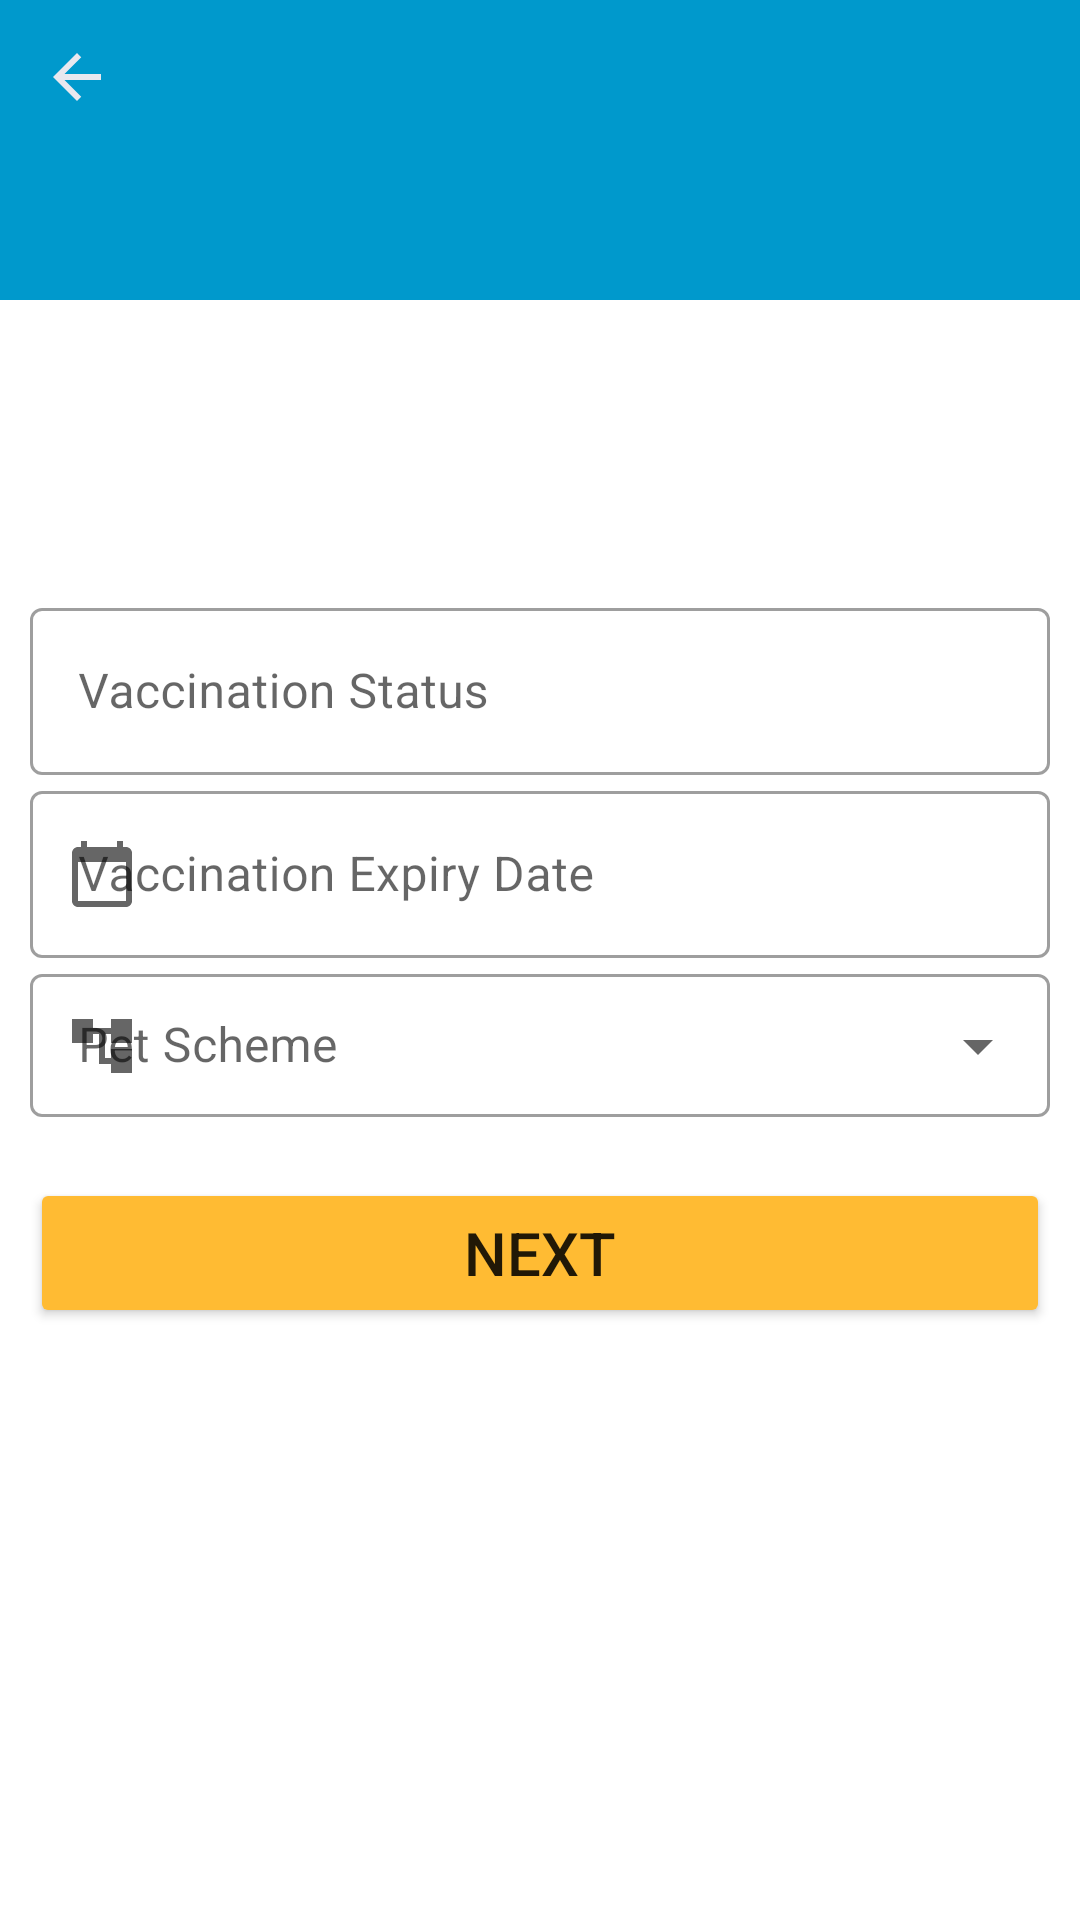

Named icons in this screenshot (1080 × 1920) and their bounding boxes, (x1, y1, x2, y2):
arrow back: (53, 53, 101, 101)
